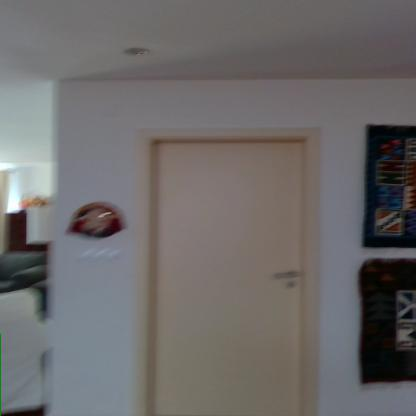door: (156, 142, 304, 415)
lever: (273, 271, 301, 278)
